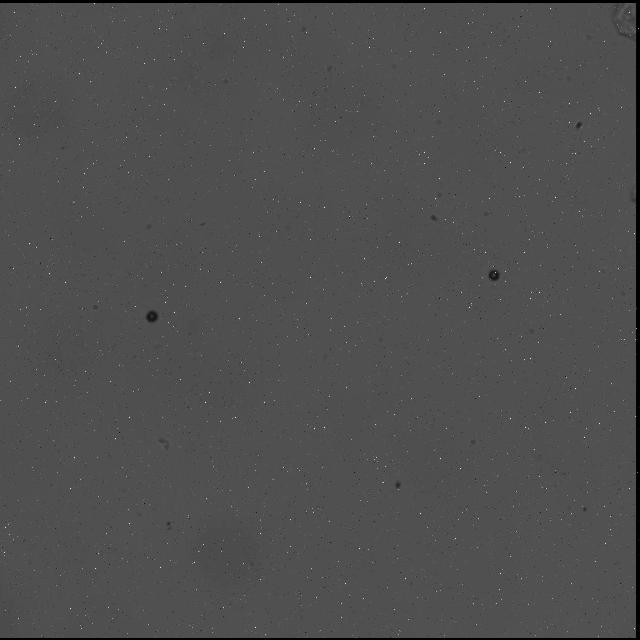microbeads: (488, 268, 502, 282), (148, 307, 162, 321)
